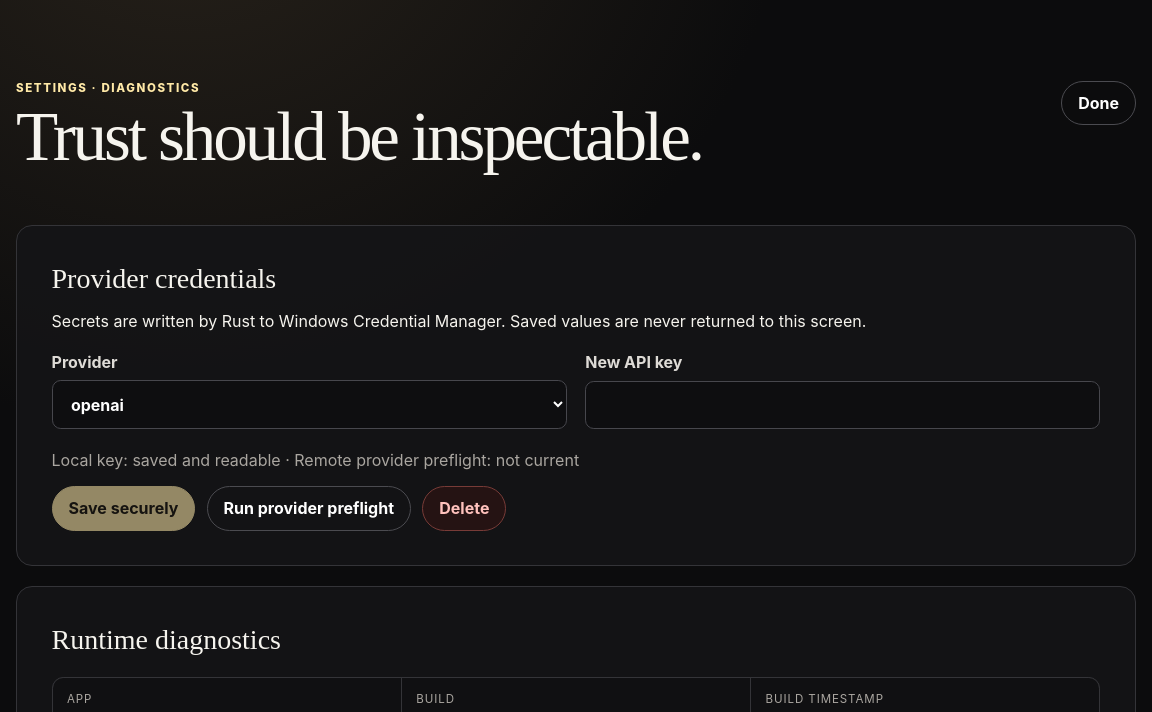
settings and diagnostics › defaults to enabled OpenAI and disables remote validation for kill-switched providers
The width and height of the screenshot is (1152, 712).
Select "xai" in the dropdown labelled "Provider" at (309, 405), box left=52, top=380, right=567, bottom=429
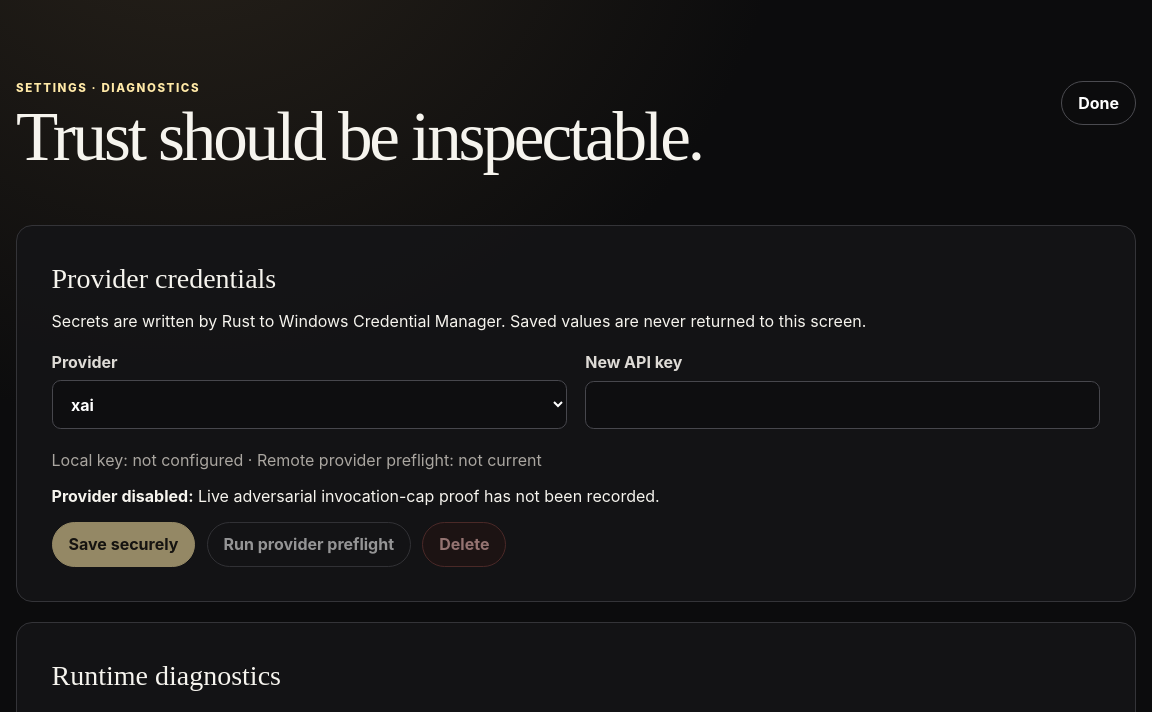
Expected: the button "Run provider preflight" is disabled, left=206, top=522, right=411, bottom=566
Expected: the text "Live adversarial invocation-cap proof has not been recorded." is shown, left=198, top=486, right=660, bottom=506
